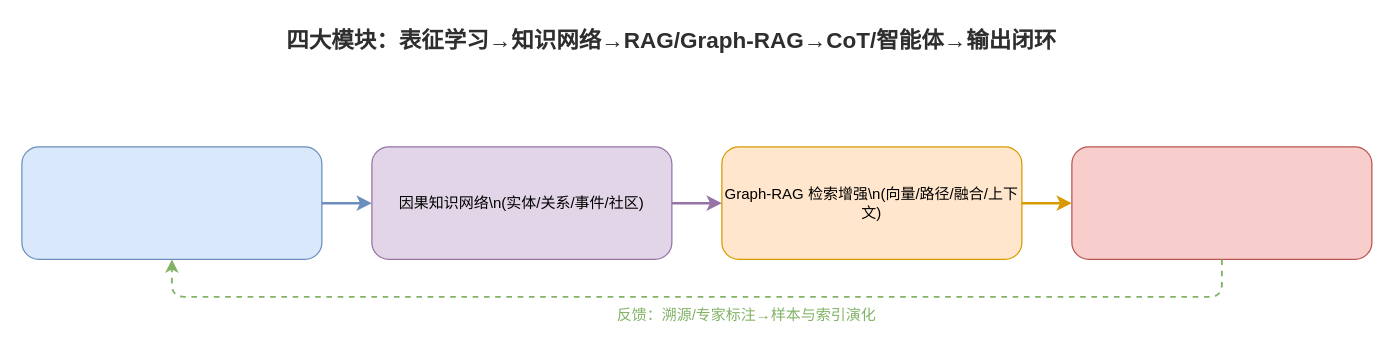
Image size: 1394x355. Some labels were removed from this diagram. Each missing label, with the box of its shape:
CoT 推理/智能体\n(多路径/验证/收敛/策略): (1071, 146, 1372, 259)
表征学习与数据工程\n(解析/清洗/对齐/融合): (21, 146, 322, 259)
